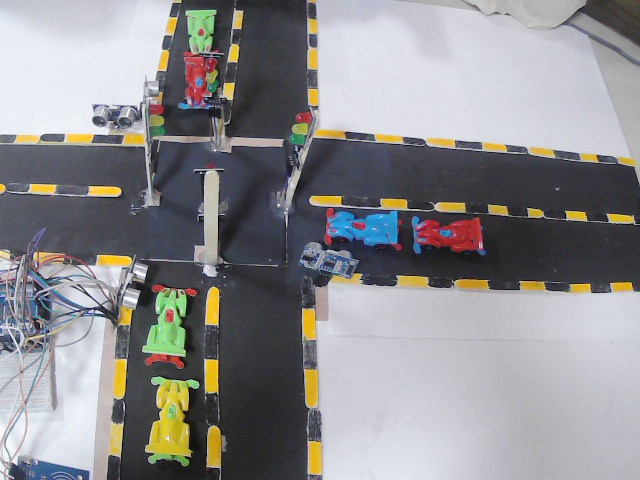car: (145, 374, 198, 480), (406, 211, 503, 259), (322, 204, 401, 258), (152, 287, 192, 364), (177, 49, 221, 110), (182, 5, 224, 63)
traffic_light: (279, 107, 315, 173), (203, 56, 229, 106), (147, 102, 172, 154), (204, 159, 224, 190)
uno_breadboard: (6, 253, 51, 421), (292, 241, 368, 289), (117, 263, 149, 324), (96, 95, 134, 139), (15, 455, 79, 480), (141, 64, 161, 124)
